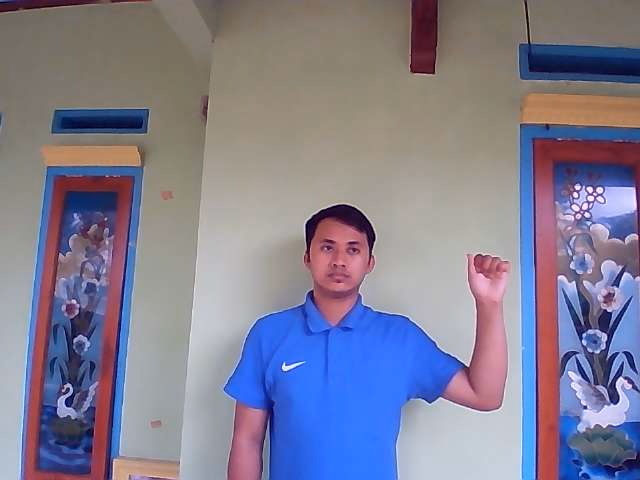A: (465, 252, 511, 303)
